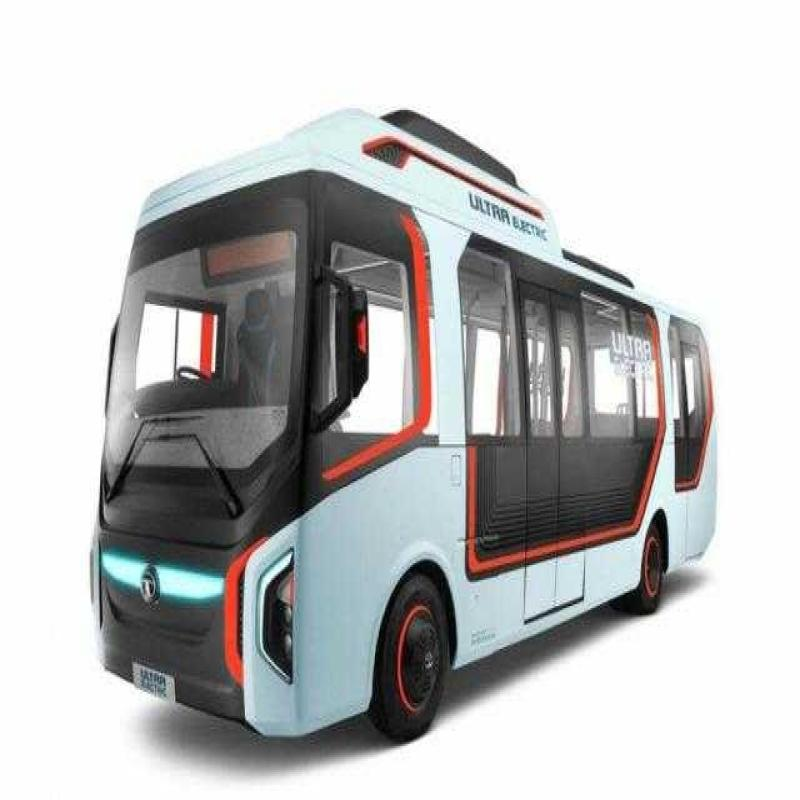bus: (91, 70, 761, 728)
